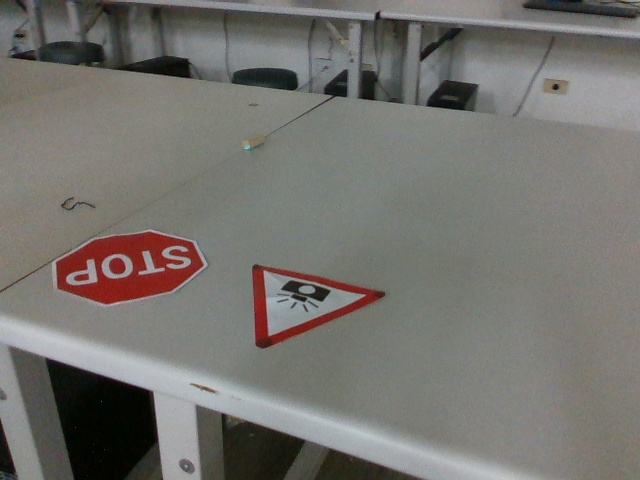helmet: (246, 261, 386, 353)
stop: (50, 229, 211, 307)
